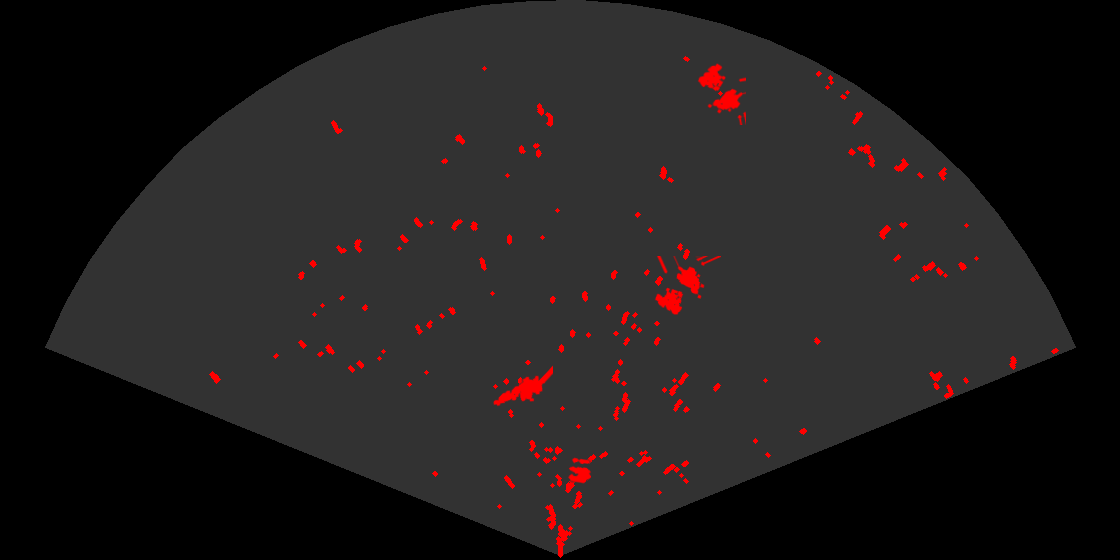ball: (566, 456, 593, 485)
cage: (653, 256, 721, 316), (696, 62, 746, 125)
frogman: (492, 364, 553, 408)
